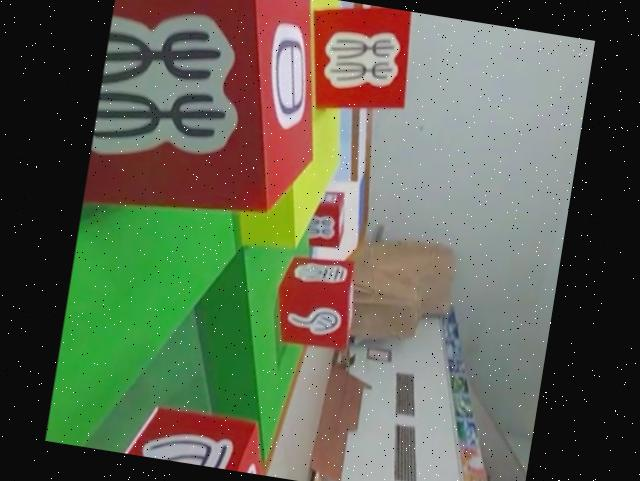R2 Fake: (81, 0, 340, 241), (97, 391, 279, 476), (297, 0, 421, 121), (266, 249, 364, 355), (306, 186, 350, 247)
